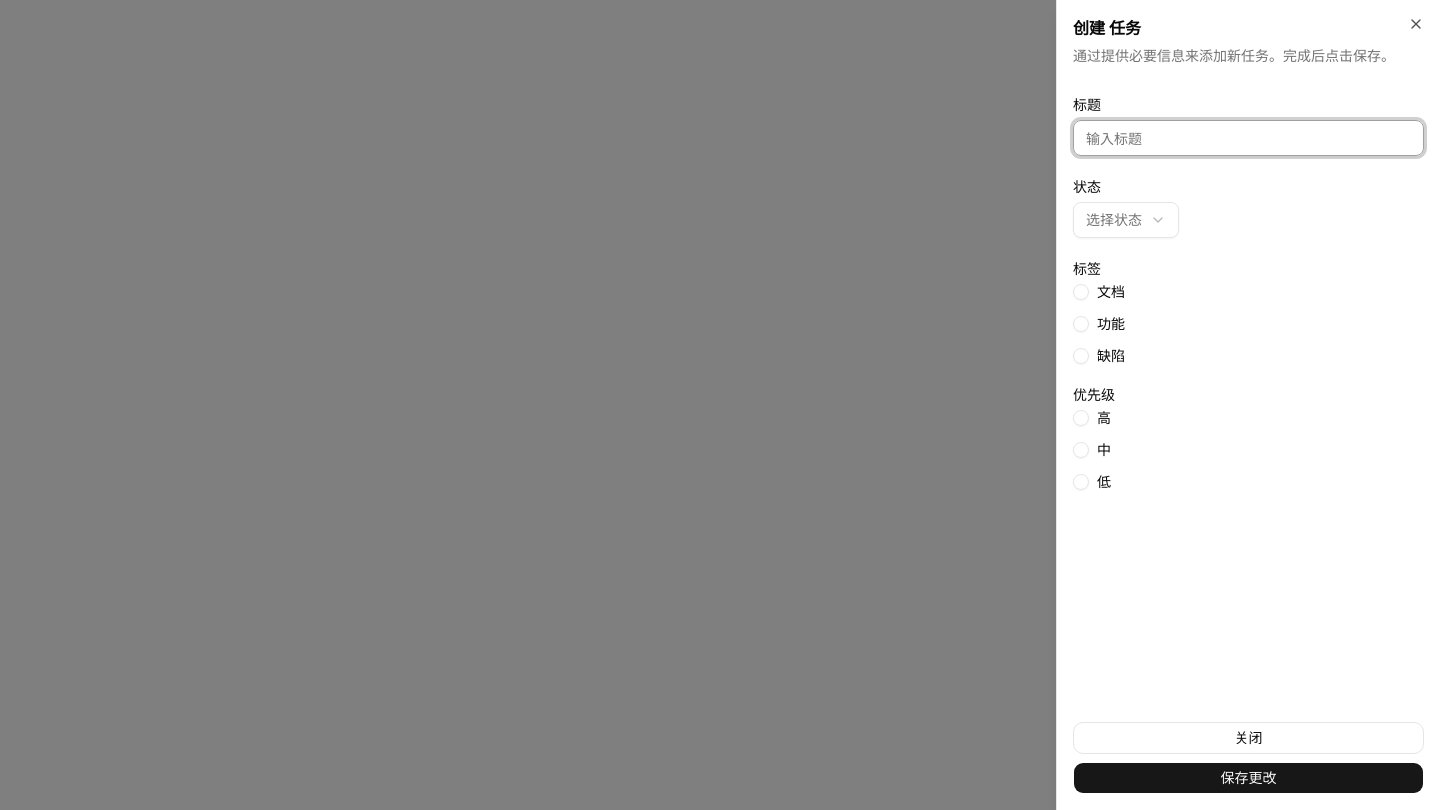
Test: TasksMutateDrawer › shows validation messages when submitting an empty form
Click the button "保存更改" at (1248, 778), box [1073,762,1424,794]
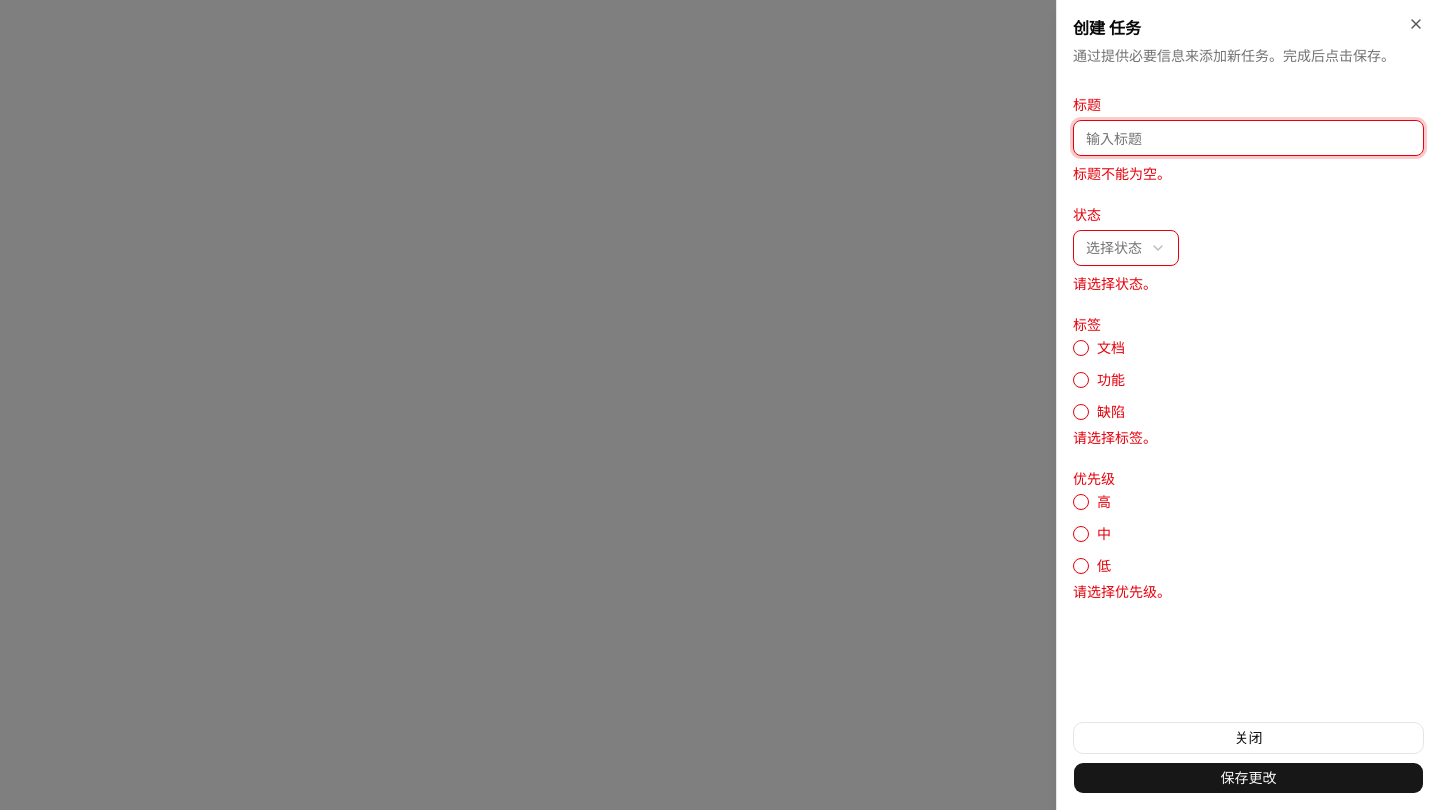
expect the text "标题不能为空。" is shown: met, box [1073,165,1171,182]
expect the text "请选择状态。" is shown: met, box [1073,275,1157,292]
expect the text "请选择标签。" is shown: met, box [1073,429,1157,446]
